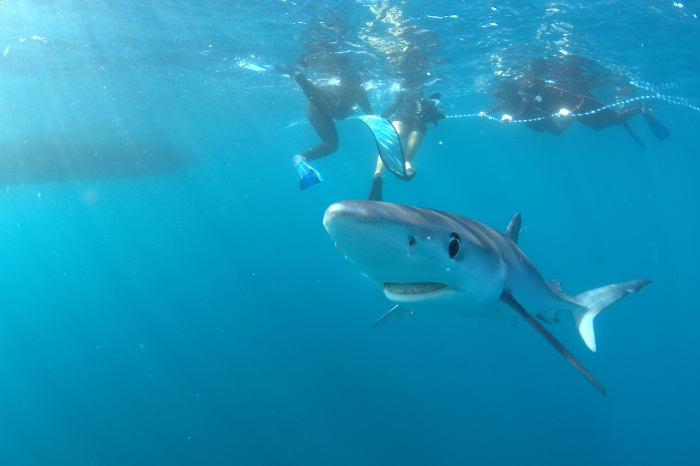Azul: (313, 177, 666, 407)
